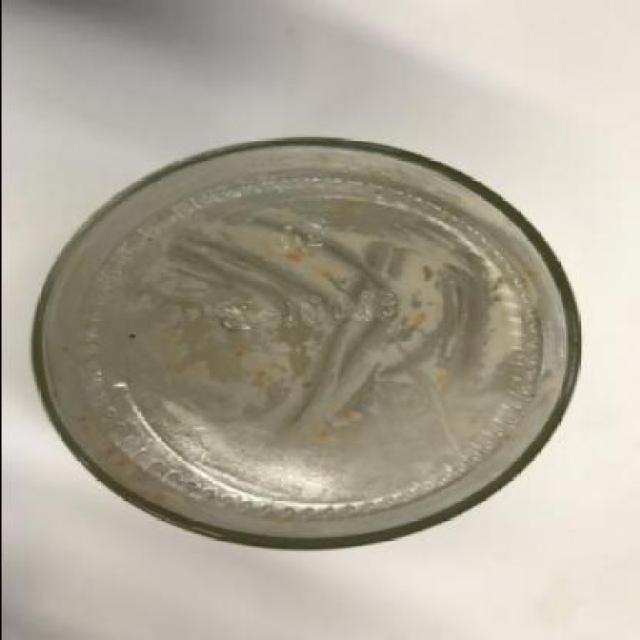glass: (31, 140, 582, 549)
